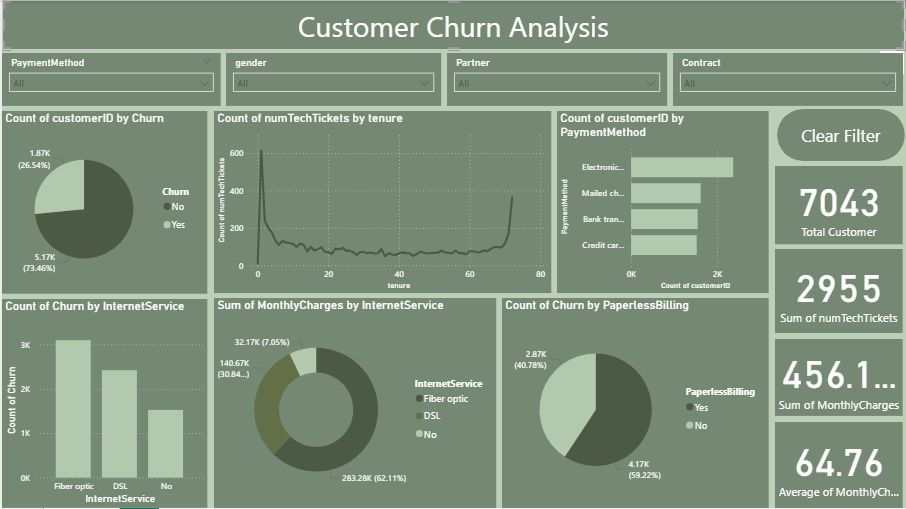

This screenshot's page, from the dashboard's own definition file:
{"tool":"powerbi","page":{"name":"Page 1","canvas":[1280,720],"ordinal":0},"visuals":[{"type":"shape","box":[0,0,1279.8,70.9],"z":0},{"type":"pieChart","fields":{"Category":["01 Churn-Dataset.Churn"],"Y":["CountNonNull(01 Churn-Dataset.customerID)"]},"box":[0,157.3,290.6,259.4],"z":1000},{"type":"lineChart","fields":{"Y":["CountNonNull(01 Churn-Dataset.numTechTickets)"],"Category":["01 Churn-Dataset.tenure"]},"box":[300.5,157.3,477.6,258],"z":2000},{"type":"barChart","fields":{"Category":["01 Churn-Dataset.PaymentMethod"],"Y":["CountNonNull(01 Churn-Dataset.customerID)"]},"box":[786.6,157.3,300.5,258],"z":3000},{"type":"slicer","fields":{"Values":["01 Churn-Dataset.PaymentMethod"]},"box":[0,75.1,310.4,75.1],"z":4000},{"type":"slicer","fields":{"Values":["01 Churn-Dataset.gender"]},"box":[317.5,75.1,304.7,75.1],"z":5000},{"type":"slicer","fields":{"Values":["01 Churn-Dataset.Partner"]},"box":[630.7,75.1,311.8,75.1],"z":6000},{"type":"slicer","fields":{"Values":["01 Churn-Dataset.Contract"]},"box":[951,75.1,326,75.1],"z":7000},{"type":"card","fields":{"Values":["01 Churn-Dataset.Total Customer"]},"box":[1095.6,235.3,181.4,110.6],"z":8000},{"type":"card","fields":{"Values":["Sum(01 Churn-Dataset.numTechTickets)"]},"box":[1095.6,352.9,181.4,119.1],"z":9000},{"type":"card","fields":{"Values":["Sum(01 Churn-Dataset.MonthlyCharges)"]},"box":[1095.6,480.5,181.4,109.1],"z":10000},{"type":"card","fields":{"Values":["Avg(01 Churn-Dataset.MonthlyCharges)"]},"box":[1095.6,598.1,181.4,121.9],"z":11000},{"type":"columnChart","fields":{"Y":["CountNonNull(01 Churn-Dataset.Churn)"],"Category":["01 Churn-Dataset.InternetService"]},"box":[0,423.8,290.6,296.2],"z":12000},{"type":"donutChart","fields":{"Category":["01 Churn-Dataset.InternetService"],"Y":["Sum(01 Churn-Dataset.MonthlyCharges)"]},"box":[300.5,422.4,399.7,297.6],"z":13000},{"type":"pieChart","fields":{"Category":["01 Churn-Dataset.PaperlessBilling"],"Y":["CountNonNull(01 Churn-Dataset.Churn)"]},"box":[708.7,422.4,378.4,297.6],"z":15000},{"type":"shape","box":[1098.4,154.5,181.4,73.7],"z":16000}]}

Visuals, with their boxes in screenshot pixels (x1, y1, x2, y2), scaled from the page's 1280x720 canvas onto the 906x509 screenshot:
shape: <region>0, 0, 905, 50</region>
pieChart - 01 Churn-Dataset.Churn x CountNonNull(01 Churn-Dataset.customerID): <region>0, 111, 206, 295</region>
lineChart - CountNonNull(01 Churn-Dataset.numTechTickets) x 01 Churn-Dataset.tenure: <region>213, 111, 551, 294</region>
barChart - 01 Churn-Dataset.PaymentMethod x CountNonNull(01 Churn-Dataset.customerID): <region>557, 111, 769, 294</region>
slicer - 01 Churn-Dataset.PaymentMethod: <region>0, 53, 220, 106</region>
slicer - 01 Churn-Dataset.gender: <region>225, 53, 440, 106</region>
slicer - 01 Churn-Dataset.Partner: <region>446, 53, 667, 106</region>
slicer - 01 Churn-Dataset.Contract: <region>673, 53, 904, 106</region>
card - 01 Churn-Dataset.Total Customer: <region>775, 166, 904, 245</region>
card - Sum(01 Churn-Dataset.numTechTickets): <region>775, 249, 904, 334</region>
card - Sum(01 Churn-Dataset.MonthlyCharges): <region>775, 340, 904, 417</region>
card - Avg(01 Churn-Dataset.MonthlyCharges): <region>775, 423, 904, 508</region>
columnChart - CountNonNull(01 Churn-Dataset.Churn) x 01 Churn-Dataset.InternetService: <region>0, 300, 206, 508</region>
donutChart - 01 Churn-Dataset.InternetService x Sum(01 Churn-Dataset.MonthlyCharges): <region>213, 299, 496, 508</region>
pieChart - 01 Churn-Dataset.PaperlessBilling x CountNonNull(01 Churn-Dataset.Churn): <region>502, 299, 769, 508</region>
shape: <region>777, 109, 905, 161</region>
